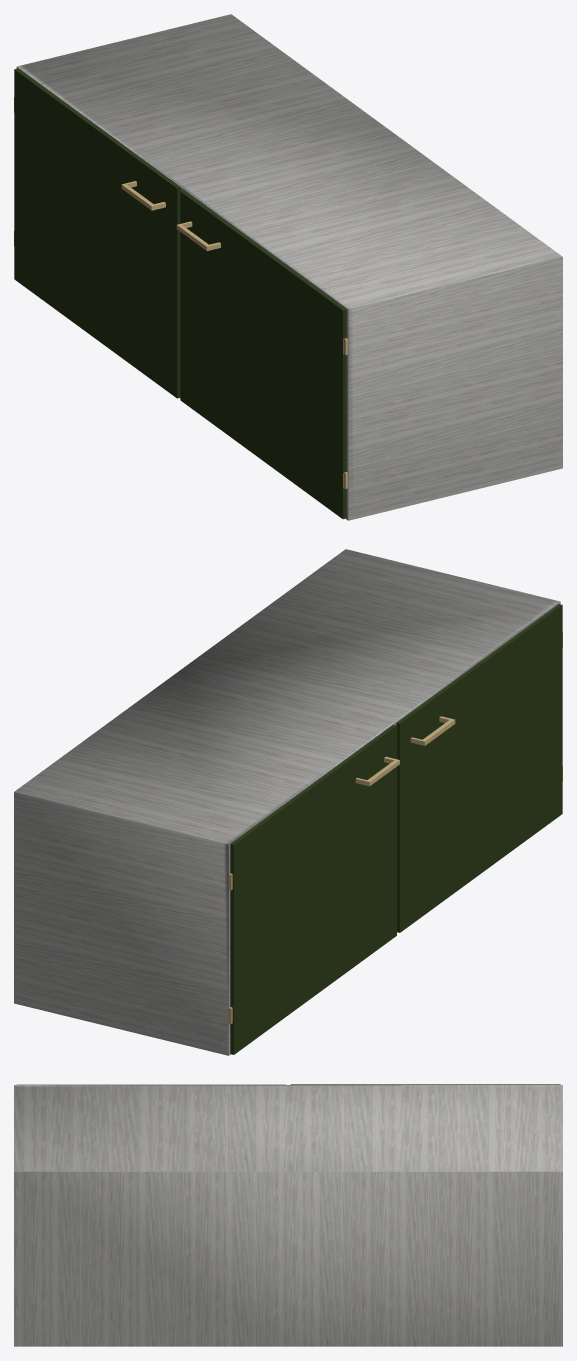
Rendered from WallCounter.fbx.
3 views of the same model, one above another, from view 1: azimuth 30°, elevation 25°; view 2: azimuth 150°, elevation 25°; view 3: azimuth 270°, elevation 25° (orthographic). The views are drawn at different scales.
Parts seen in each view (by area): view 1: SinkCounter.002; view 2: SinkCounter.002; view 3: SinkCounter.002.
Part boxes in pixels (x1,y1,x2,y2): SinkCounter.002: (14, 14, 562, 520); SinkCounter.002: (14, 549, 562, 1055); SinkCounter.002: (14, 1084, 562, 1346).
Bounding box in the file's own units: 63.07 × 54.78 × 156.
